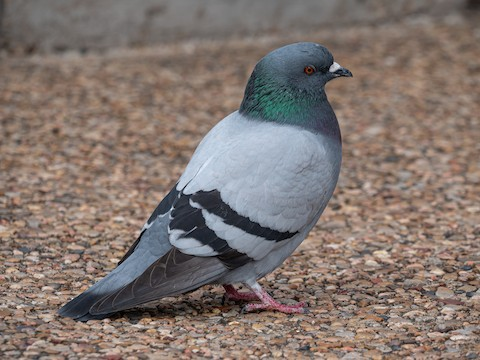pigeon: (57, 39, 354, 322)
